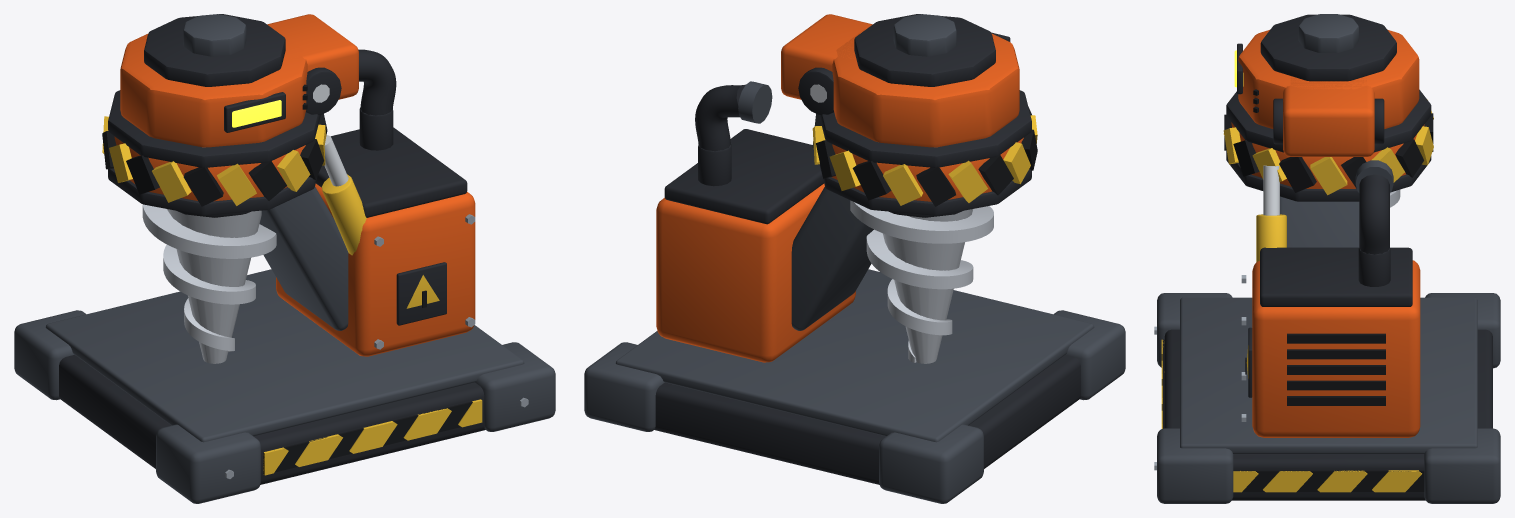
The model's file is miner.fbx.
3 views of the same model, side by side, from view 1: azimuth 30°, elevation 25°; view 2: azimuth 150°, elevation 25°; view 3: azimuth 270°, elevation 25° (orthographic). The views are drawn at different scales.
Visible parts, largest first — view 1: miner; view 2: miner; view 3: miner.
Part boxes in pixels (box(x1,y1,x2,y2)): miner: box(14, 14, 555, 503); miner: box(584, 14, 1125, 503); miner: box(1154, 14, 1500, 503).
Size of the model in its own units: 0.907 by 1.04 by 1.05.
